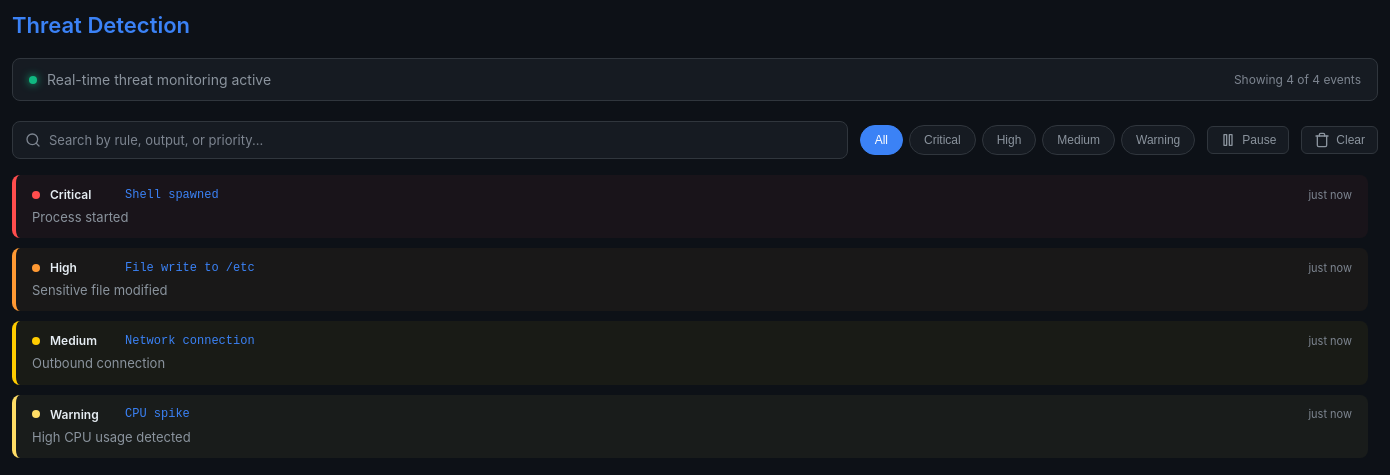
Scenario: ThreatPanel › filters threats by severity
The width and height of the screenshot is (1390, 475).
Click the button "Critical": [942, 140] box [909,125,976,155]
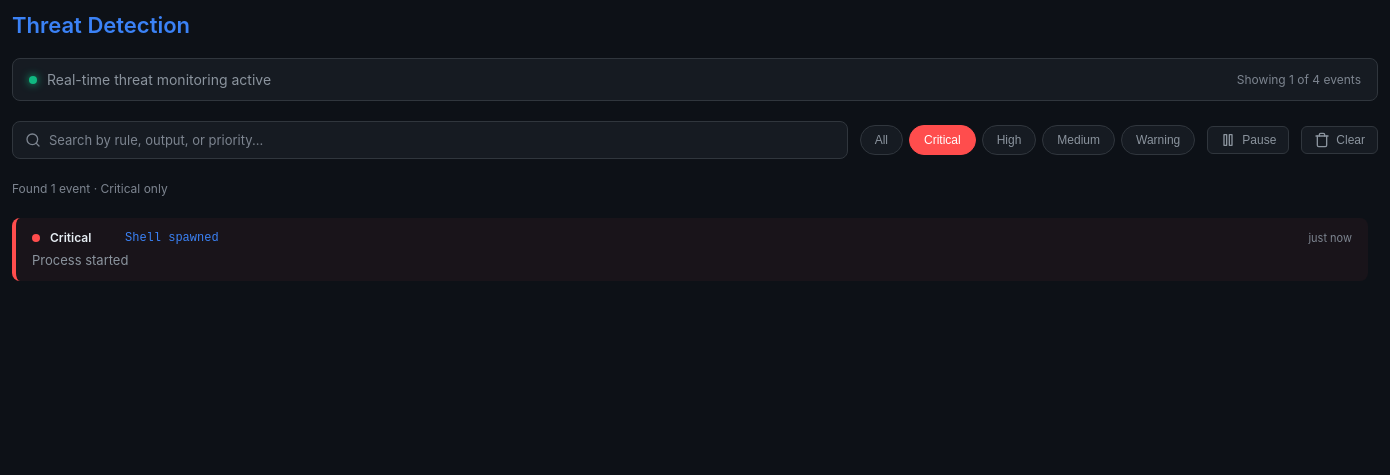
expect the text "Shell spawned" is shown: met, box [125,230,219,244]
expect the text "CPU spike" is gone: met
